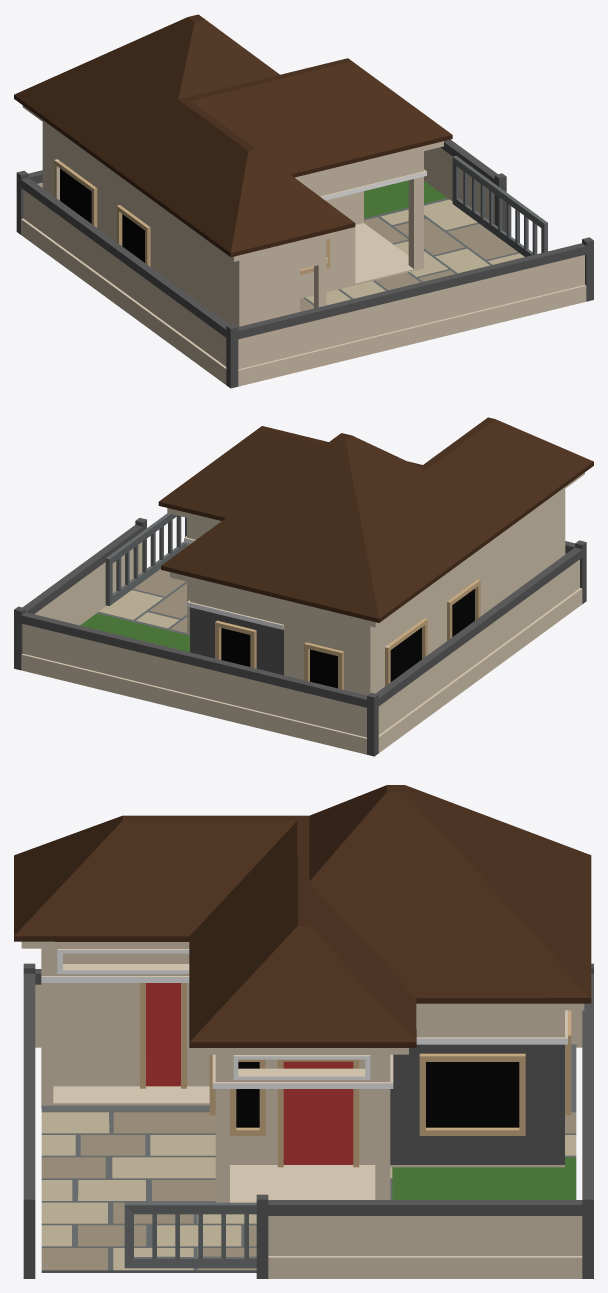
Rendered from house2.glb.
3 views of the same model, one above another, from view 1: azimuth 30°, elevation 25°; view 2: azimuth 150°, elevation 25°; view 3: azimuth 270°, elevation 25° (orthographic). The views are drawn at different scales.
Parts seen in each view (by area): view 1: house2; view 2: house2; view 3: house2.
Part boxes in pixels (bbox=[...]): house2: bbox=[14, 14, 593, 388]; house2: bbox=[14, 417, 593, 756]; house2: bbox=[14, 785, 593, 1278].
Bounding box in the file's own units: 9.7 × 6.12 × 9.96.
